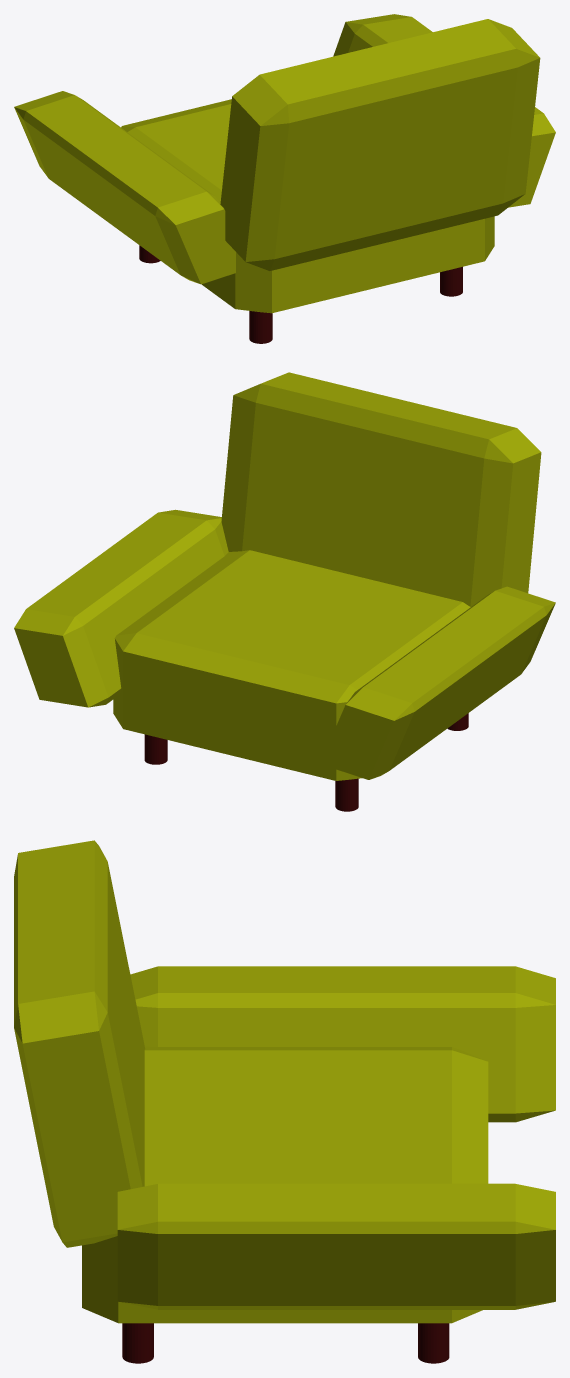
Rendered from FBX_Sofa_small.fbx.
The picture shows the model from 3 angles, top to bottom: view 1: azimuth 30°, elevation 25°; view 2: azimuth 150°, elevation 25°; view 3: azimuth 270°, elevation 25°; orthographic projection. The views are drawn at different scales.
Visible parts, largest first — view 1: FBX_Sofa_small; view 2: FBX_Sofa_small; view 3: FBX_Sofa_small.
Part boxes in pixels (box(x1,y1,x2,y2)): FBX_Sofa_small: box(14, 14, 555, 343); FBX_Sofa_small: box(14, 372, 555, 811); FBX_Sofa_small: box(14, 840, 555, 1363).
Size of the model in its own units: 448 by 306 by 396.
